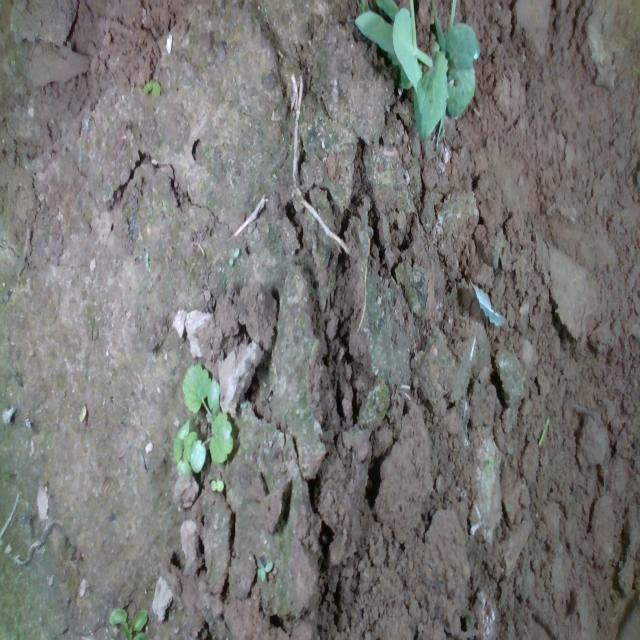weed: (141, 74, 163, 97), (207, 473, 225, 495), (224, 245, 240, 264)
